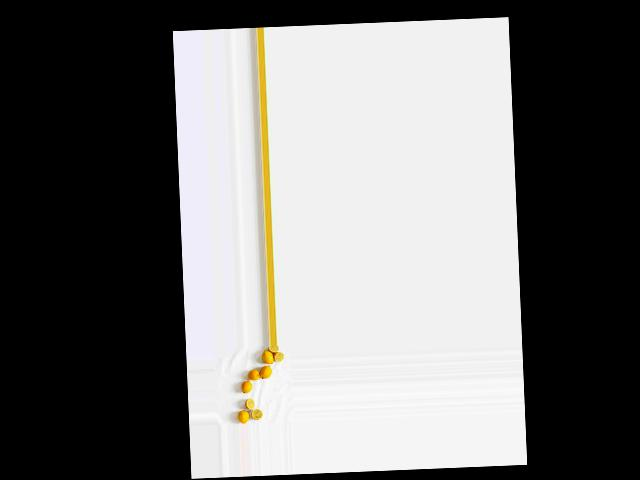lemon: (259, 348, 274, 369)
